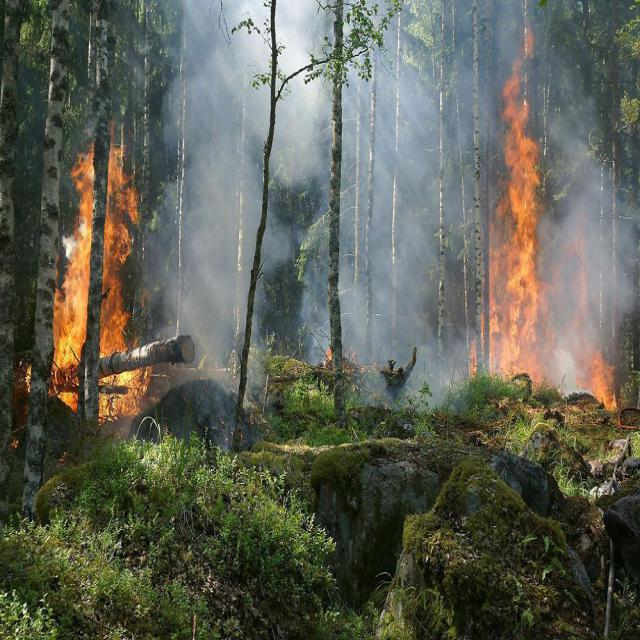Fire: (458, 16, 628, 420), (15, 106, 156, 435)
